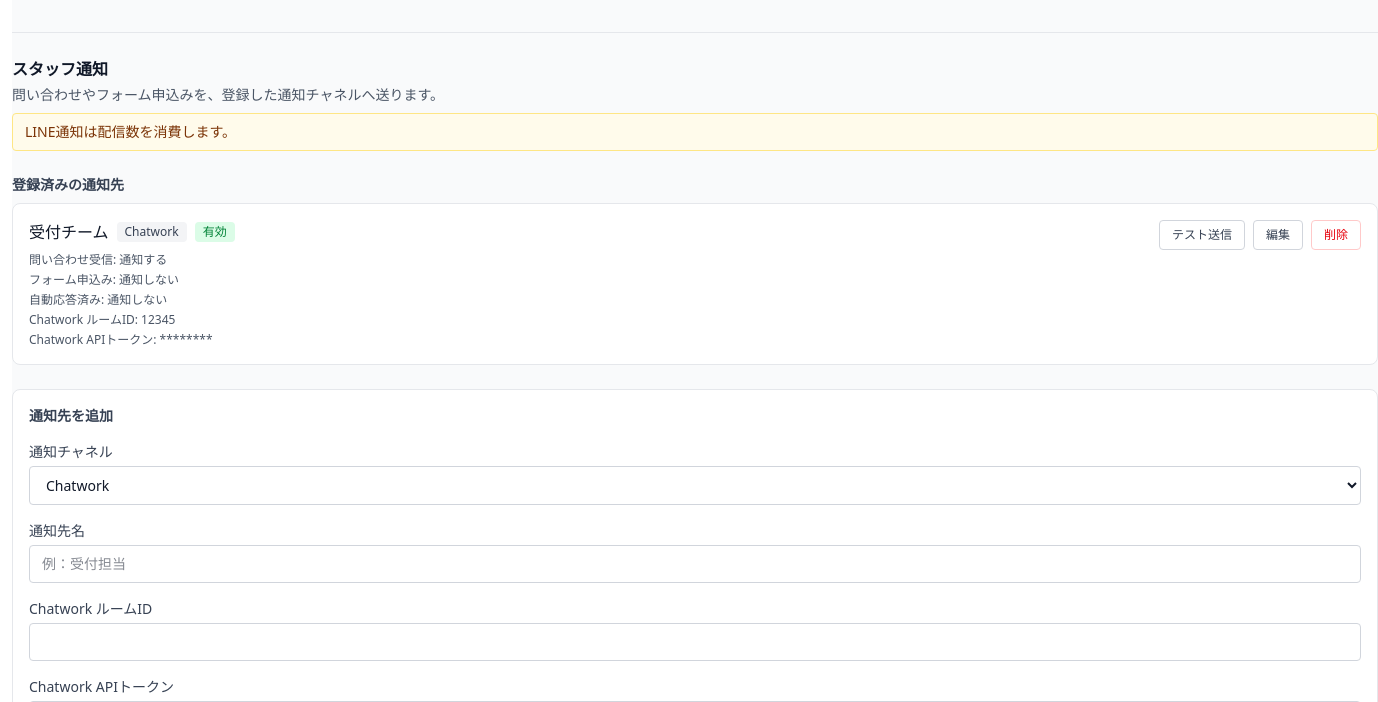
Test: StaffNotificationSettingsPanel › テスト成功後に設定編集を始めたら古い成功表示を消す
Click the button with aria-label "受付チームへテスト送信".
click(1202, 235)  # box [1159,220,1245,250]
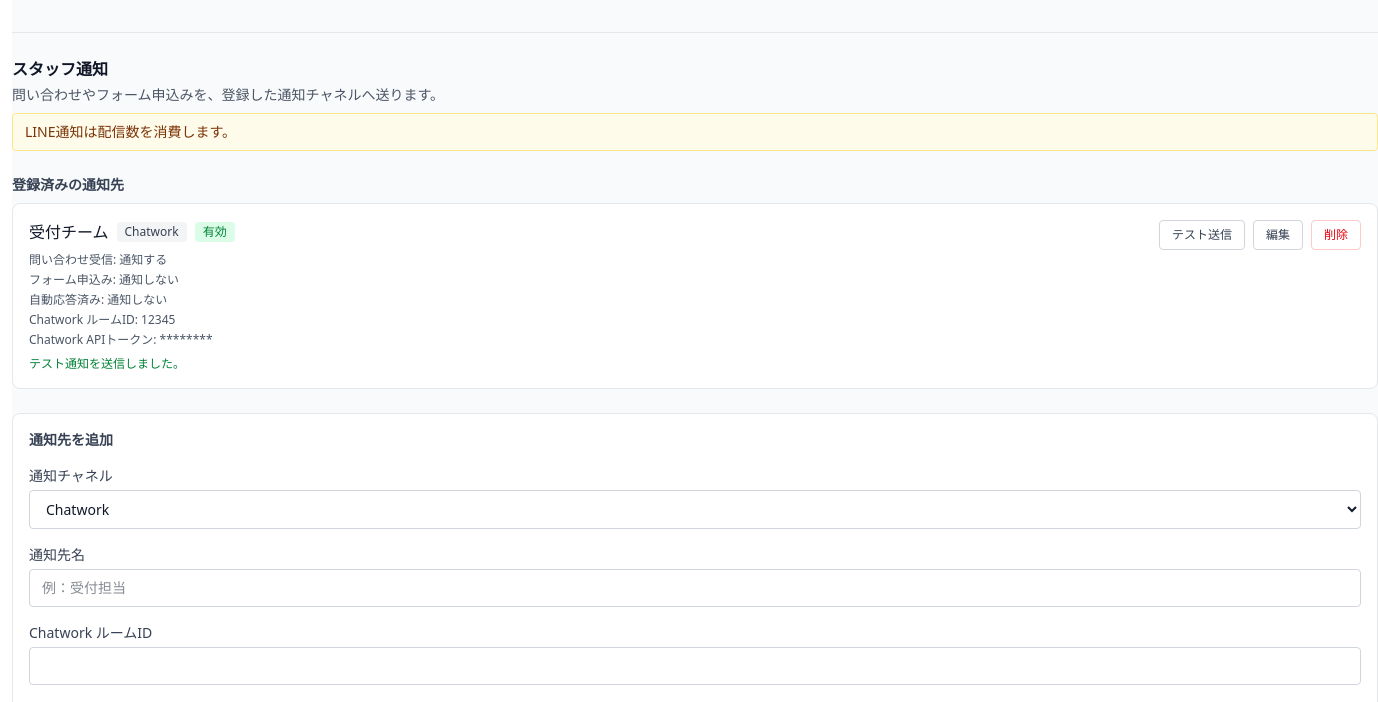
Expected: the message shows "テスト通知を送信しました", [29,355,185,372]
Click the button with aria-label "受付チームを編集".
click(1278, 235)  # box [1253,220,1303,250]
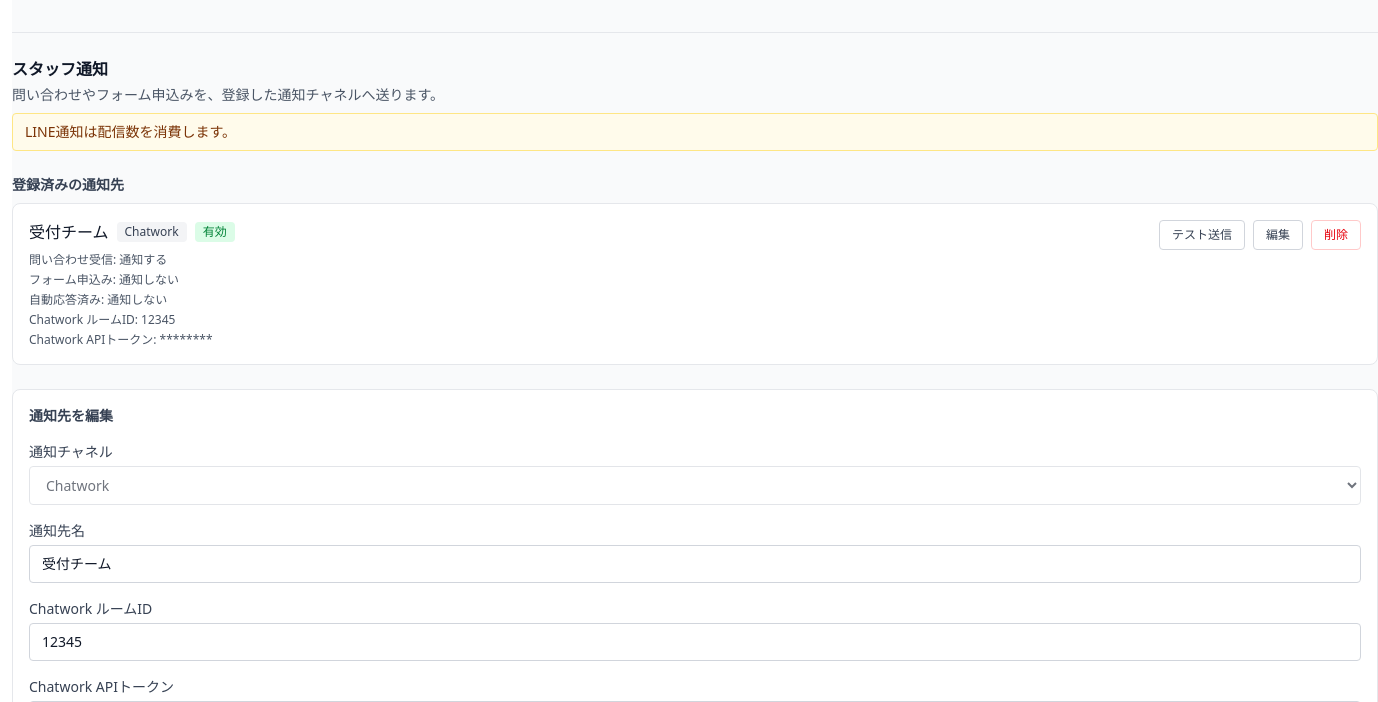
Expected: the text "テスト通知を送信しました。" is gone
